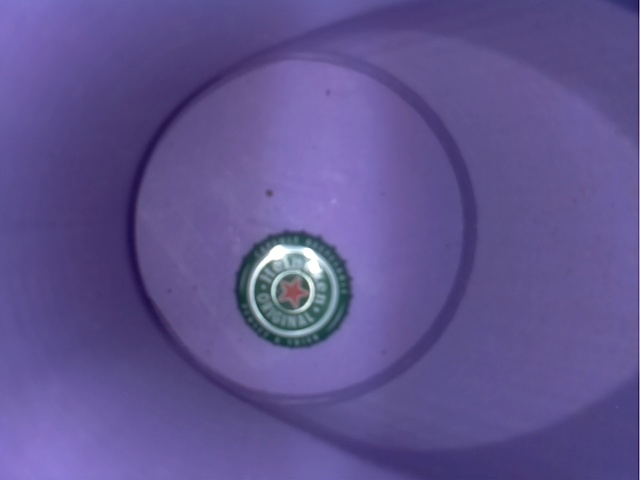capsule: (220, 221, 379, 354)
